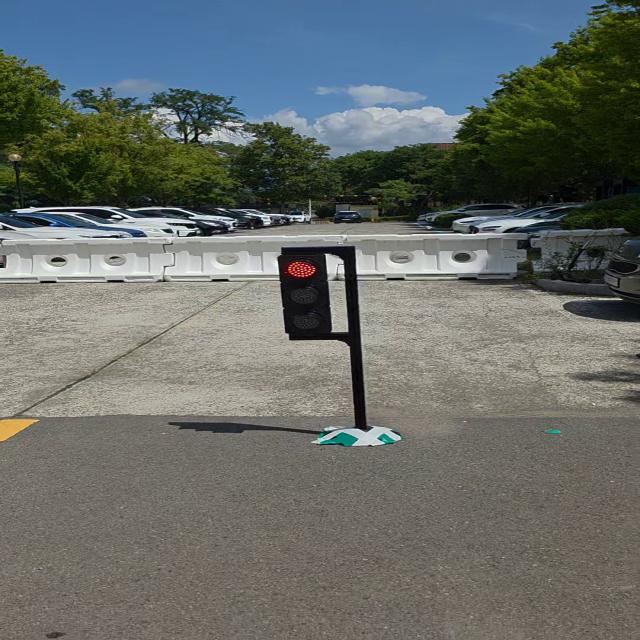red: (269, 255, 339, 338)
